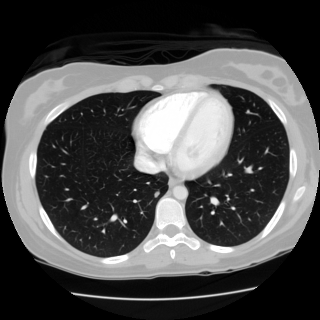nodule: (153, 190, 161, 198)
